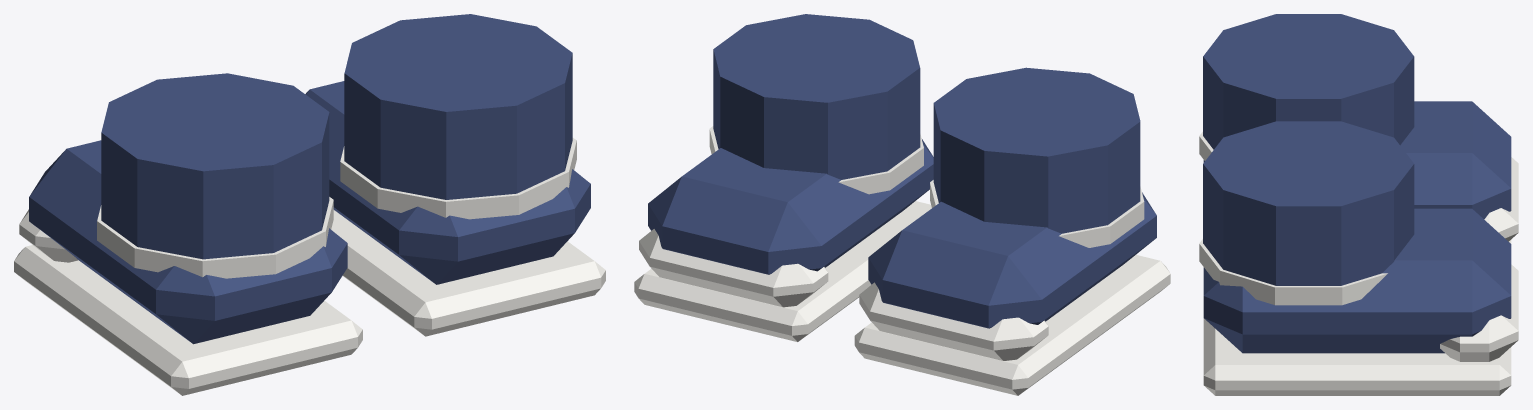
File: shoes_kedy.glb
3 views of the same model, side by side, from view 1: azimuth 30°, elevation 25°; view 2: azimuth 150°, elevation 25°; view 3: azimuth 270°, elevation 25° (orthographic). The views are drawn at different scales.
Visible parts, largest first — view 1: LegL, LegR; view 2: LegL, LegR; view 3: LegR, LegL.
Part boxes in pixels (x1=…): LegL: x1=14, y1=73, x2=362, y2=395; LegR: x1=305, y1=14, x2=605, y2=336; LegL: x1=854, y1=67, x2=1170, y2=395; LegR: x1=634, y1=14, x2=933, y2=341; LegR: x1=1199, y1=121, x2=1518, y2=395; LegL: x1=1199, y1=14, x2=1518, y2=243.
Size of the model in its own units: 0.473 by 0.22 by 0.327.
